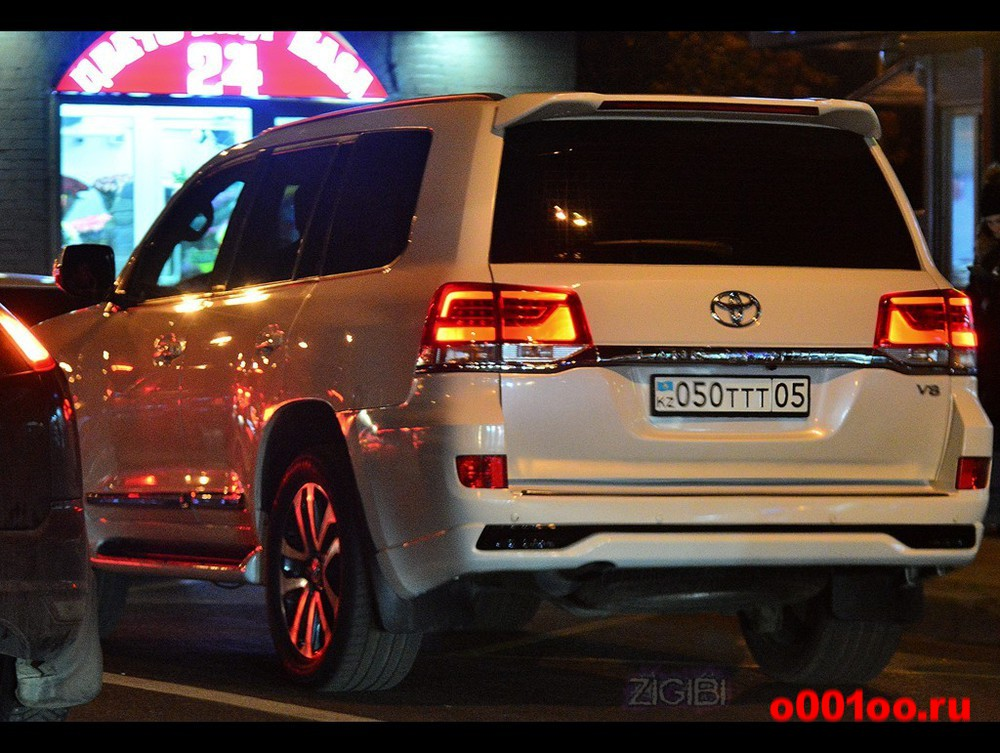license_plate: (648, 376, 811, 415)
